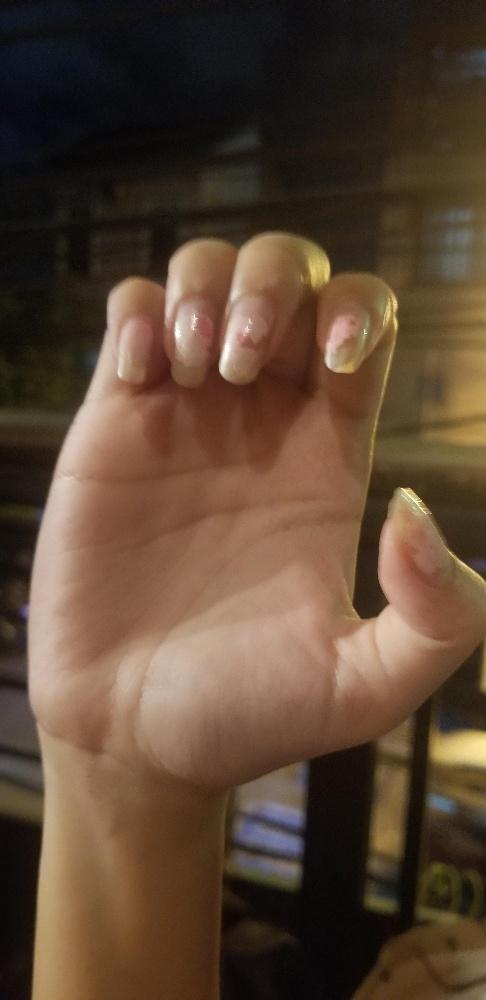e: (25, 223, 485, 795)
